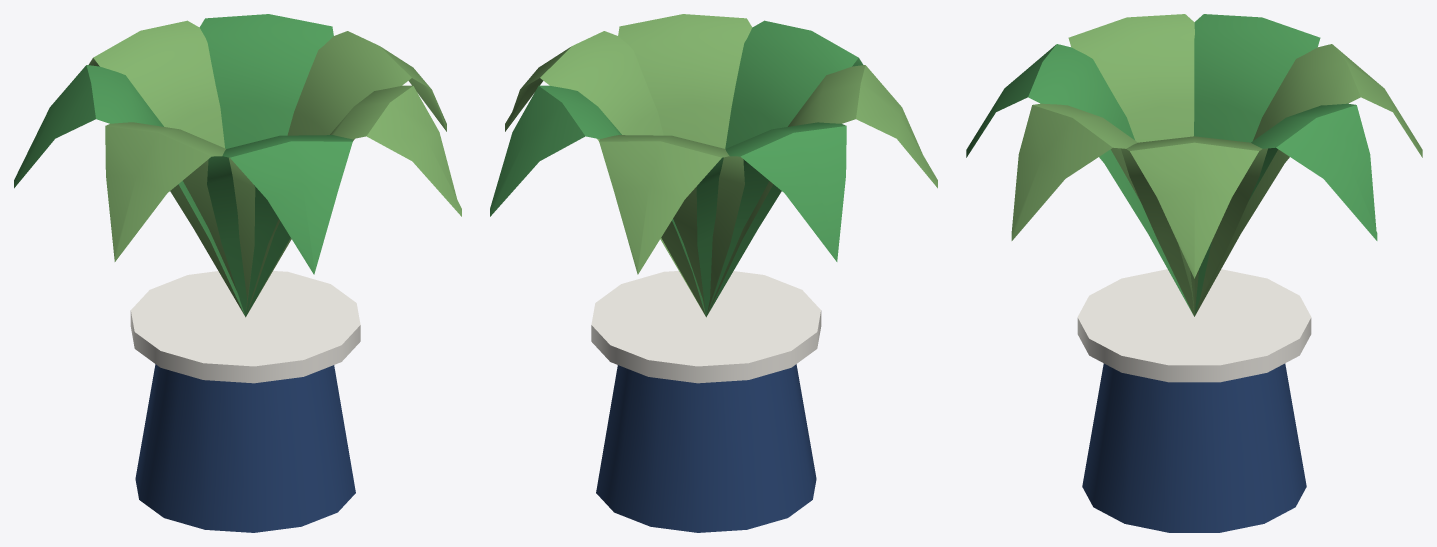
File: b_plant.gltf
3 renders of one model, left to right at view 1: azimuth 30°, elevation 25°; view 2: azimuth 150°, elevation 25°; view 3: azimuth 270°, elevation 25°, orthographic.
Visible parts, largest first — view 1: b_plant; view 2: b_plant; view 3: b_plant.
Part boxes in pixels (x1,y1,x2,y2): b_plant: (14,14,461,532); b_plant: (490,14,937,532); b_plant: (966,14,1422,532).
Size of the model in its own units: 0.9505 by 0.967 by 0.9749.
Materials: 1 (1 with a texture image).
